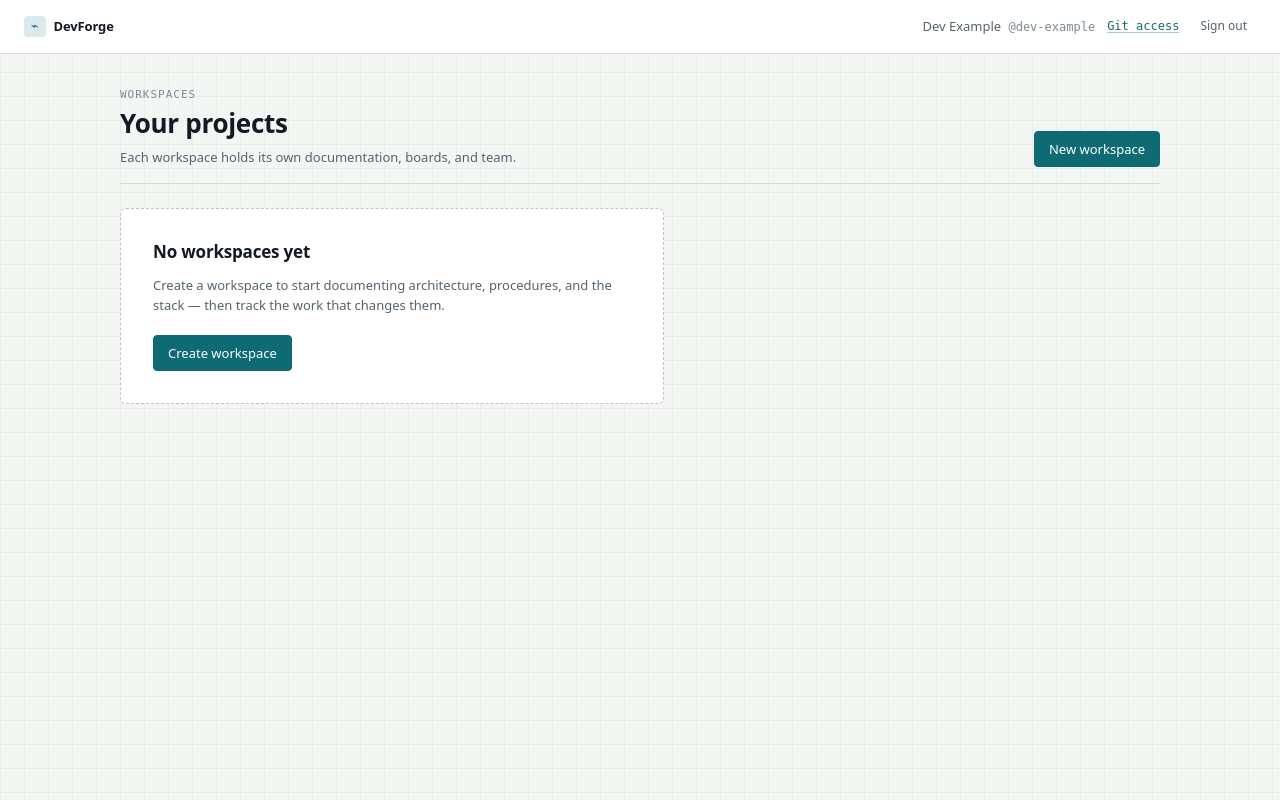
Test case: WorkspaceListPage › surfaces a field error returned by the backend
Click the button "Create workspace": (222, 353) [153, 335, 292, 371]
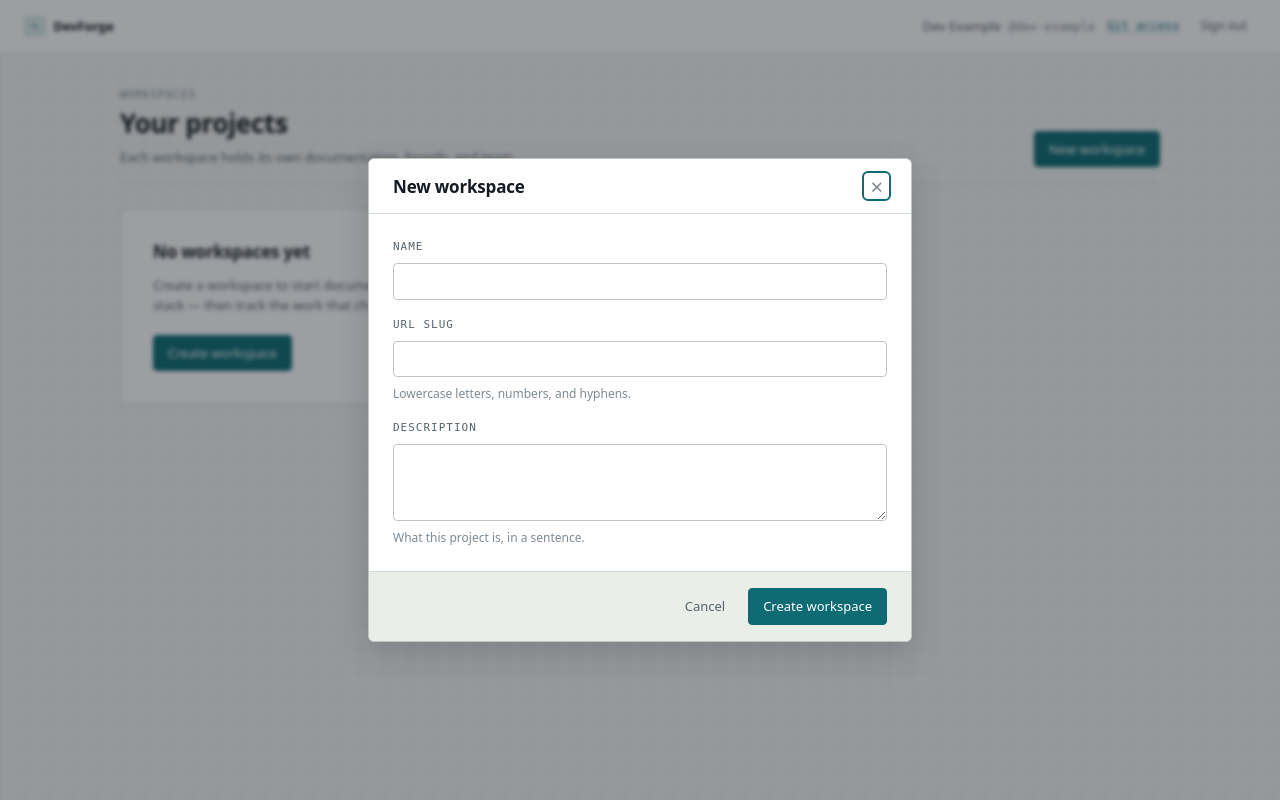
In the field labelled "Name": (640, 282) [393, 264, 887, 300], type "Bad One"
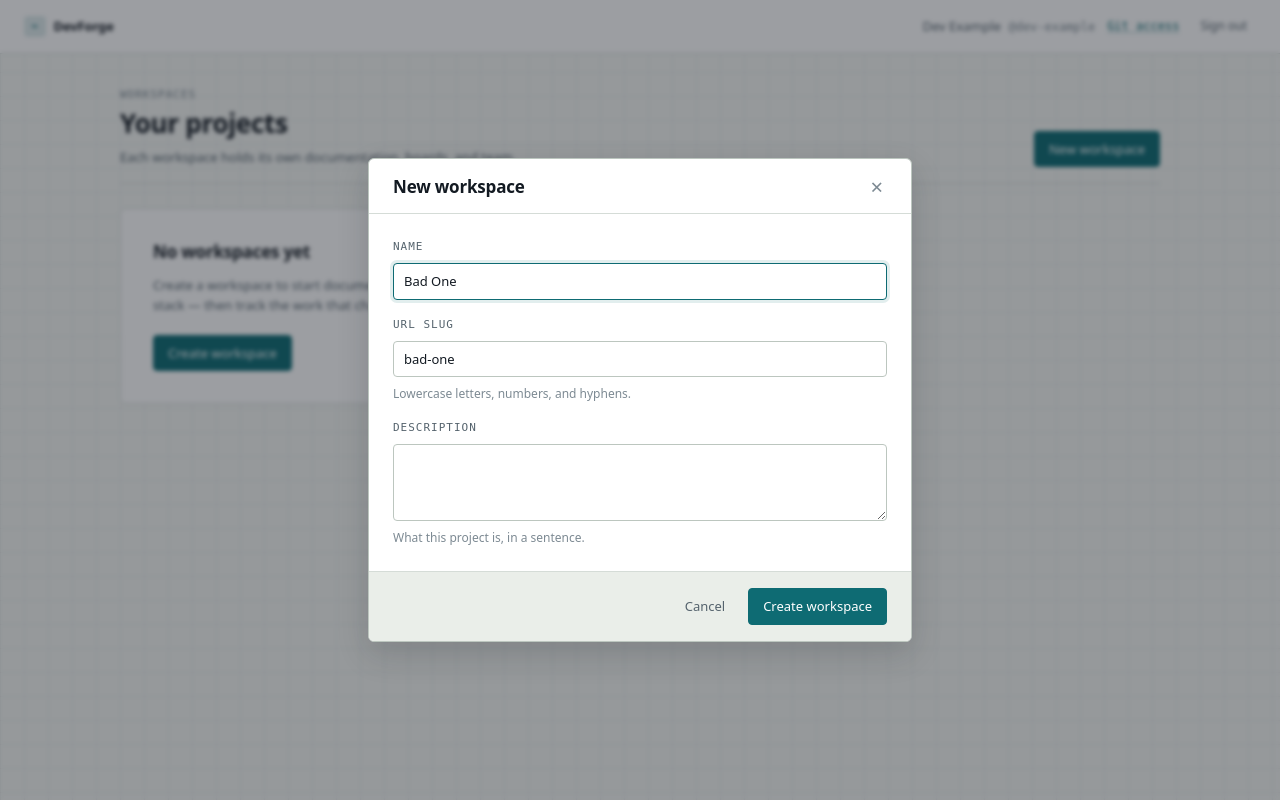
Click the button "Create workspace": (818, 606) [748, 588, 887, 624]
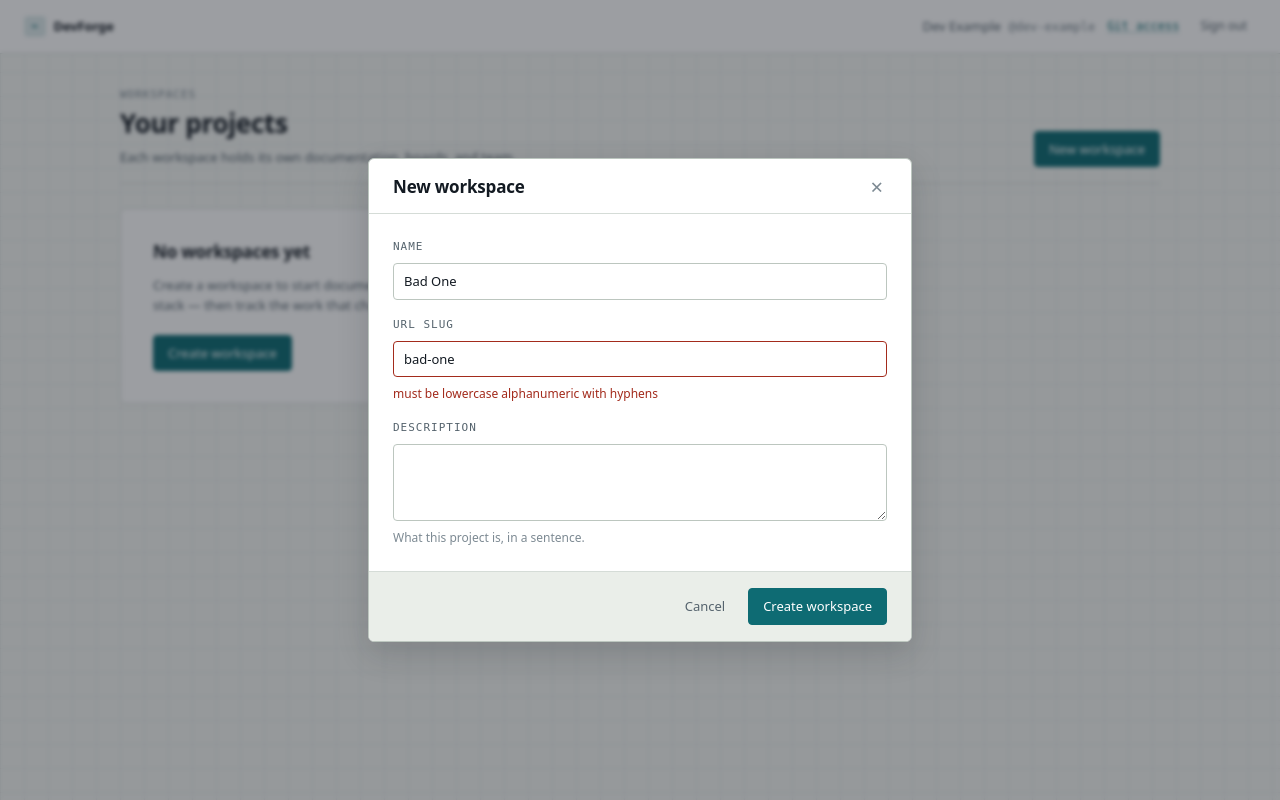
Result: the text "must be lowercase alphanumeric with hyphens" is shown at [393, 385, 658, 402]
